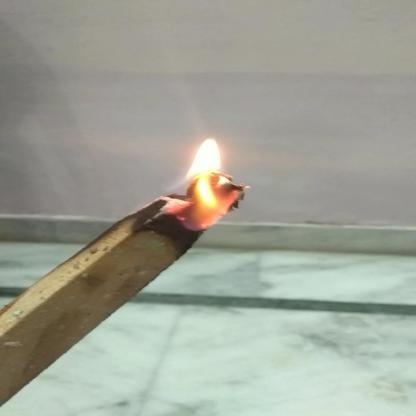fire: (158, 130, 252, 237)
